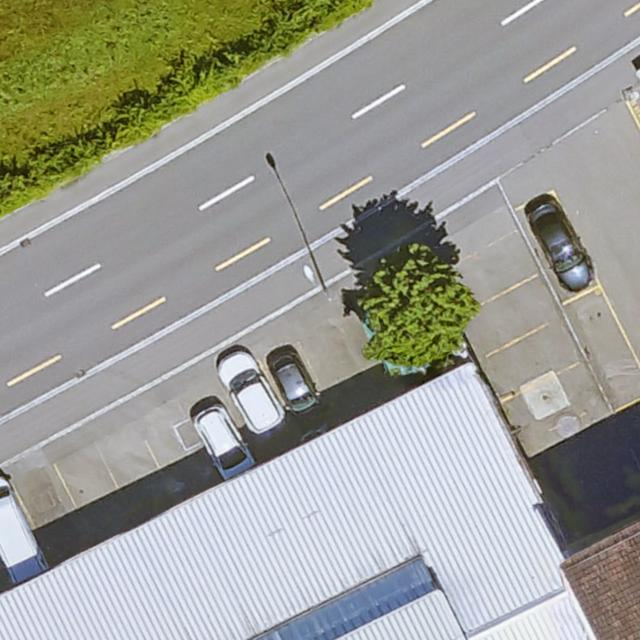tree: (361, 249, 482, 367)
